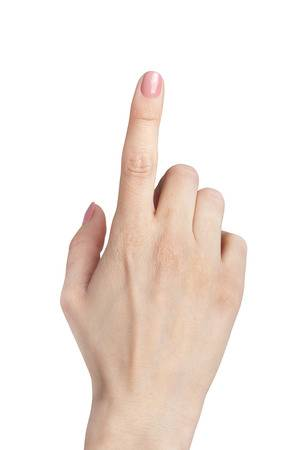move: (59, 71, 248, 386)
